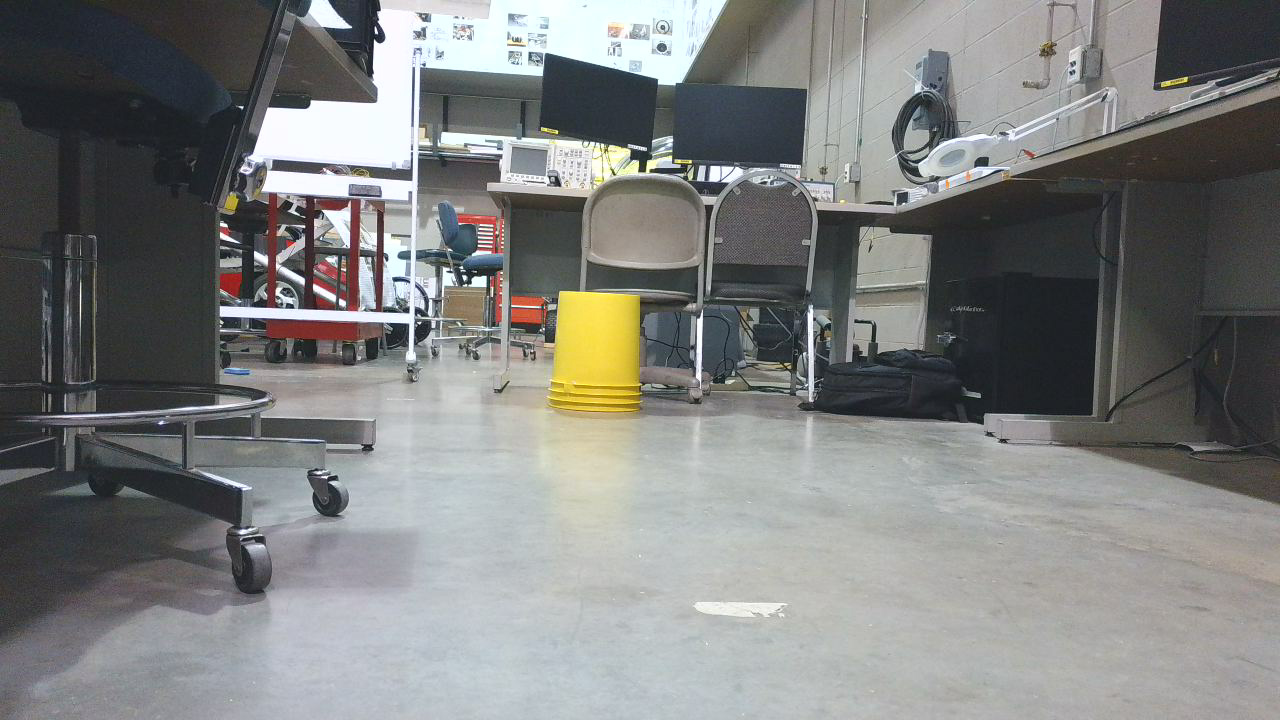blue_bucket: (551, 295, 647, 419)
